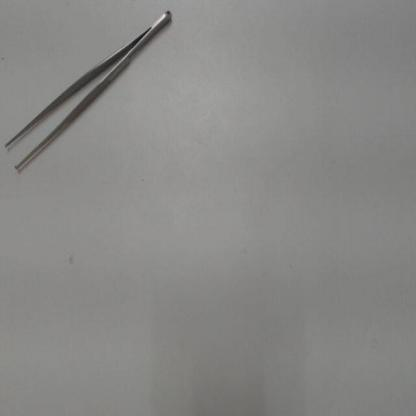Gillies Toothed Dissector: (3, 5, 175, 183)
